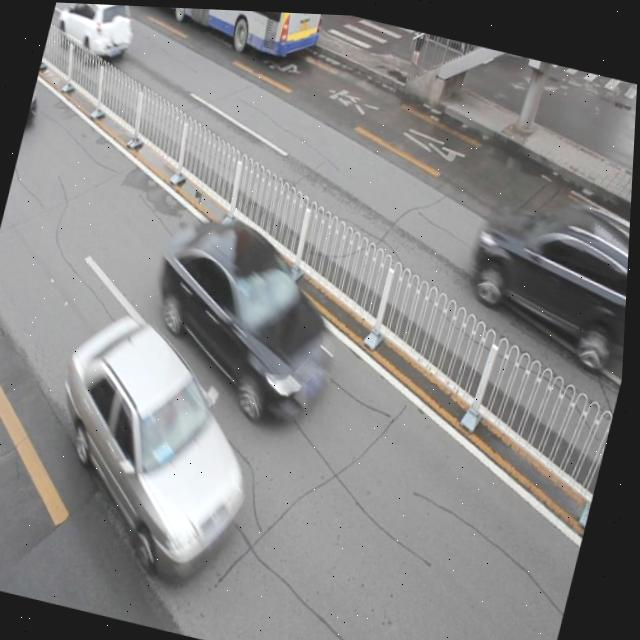car: (33, 304, 281, 577), (136, 205, 357, 427), (459, 175, 634, 362), (51, 2, 141, 72)
van: (108, 4, 326, 72)
